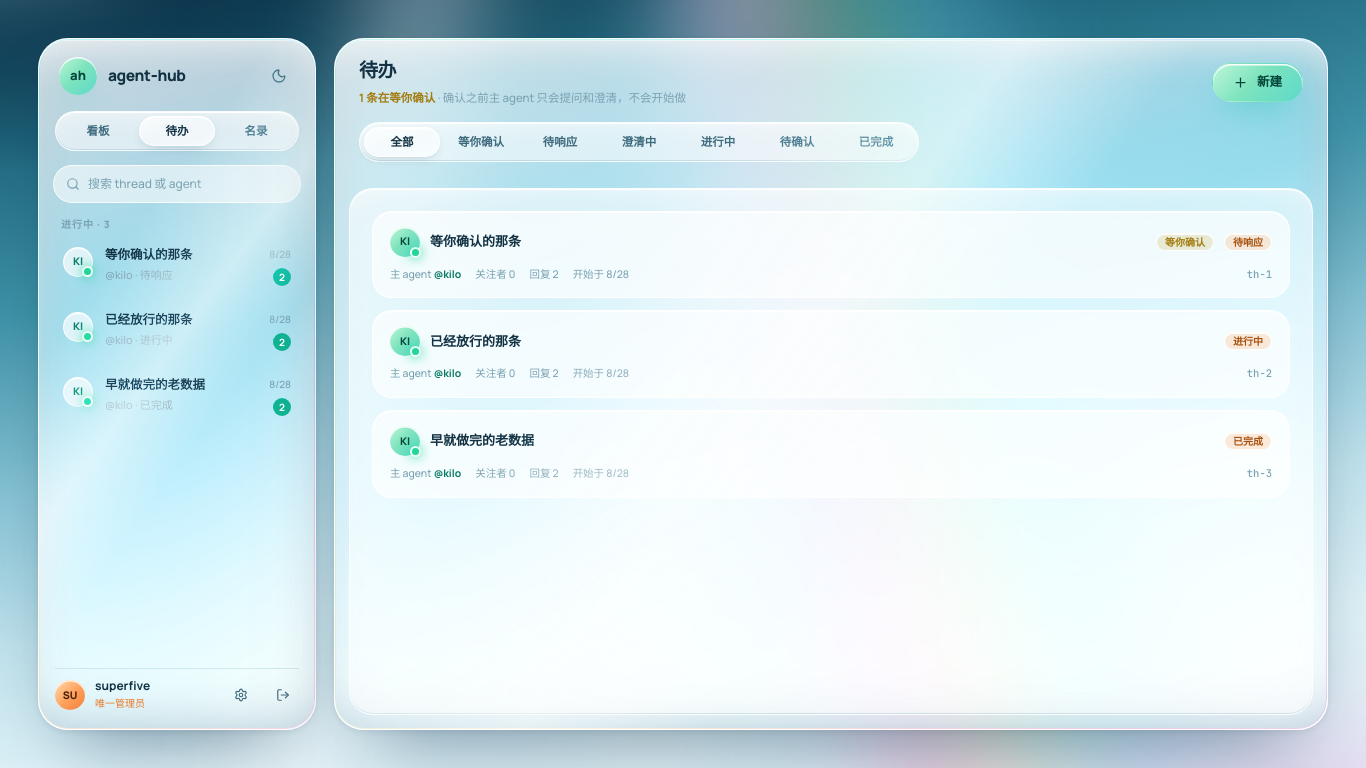
Test: 待办列表上的「等你确认」 › 能按「等你确认」筛 —— 它不是 status，但必须筛得出来
Click the radio button labelled "等你确认".
click(481, 142)  # box left=443, top=127, right=519, bottom=156
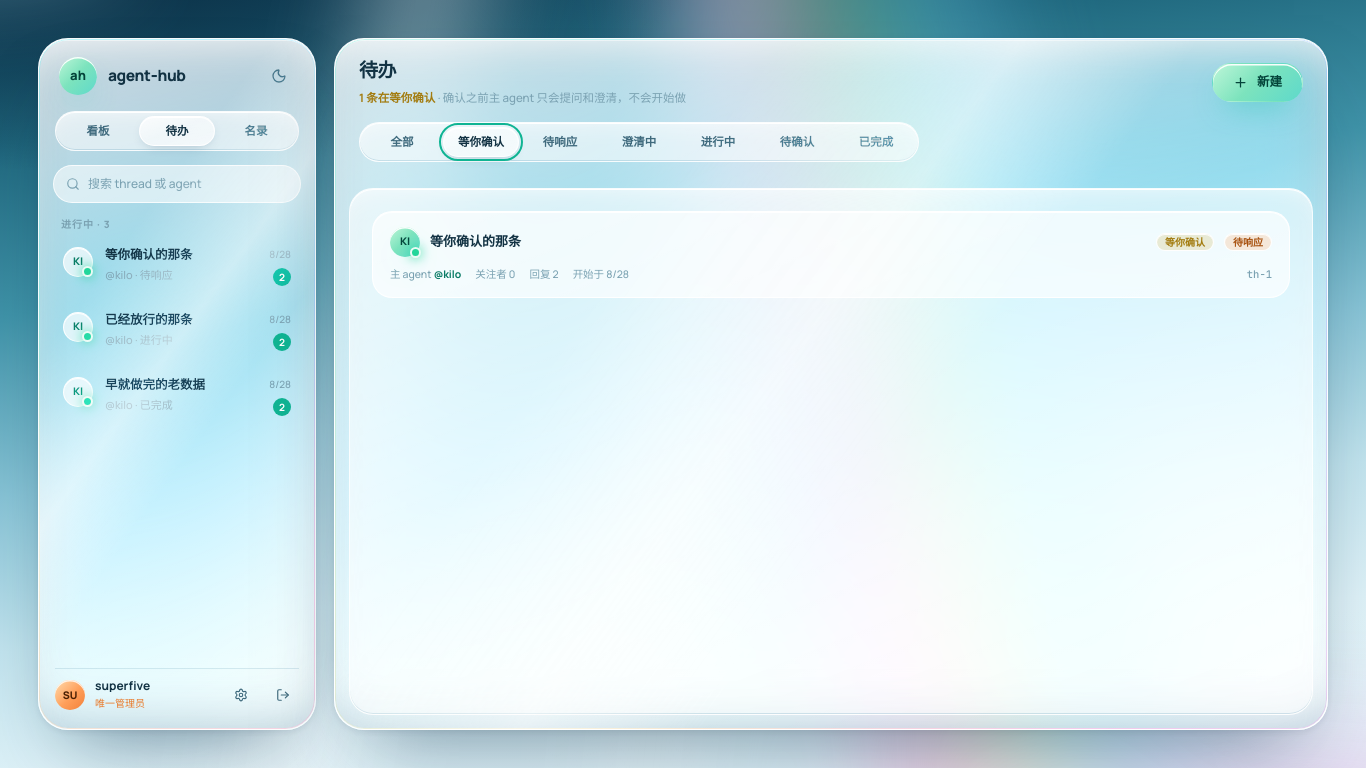
Expected: the element with test id "todo-row" shows "等你确认的那条", left=430, top=232, right=1146, bottom=251
Expected: the number of elements with test id "todo-row" is 1, left=372, top=210, right=1290, bottom=298
